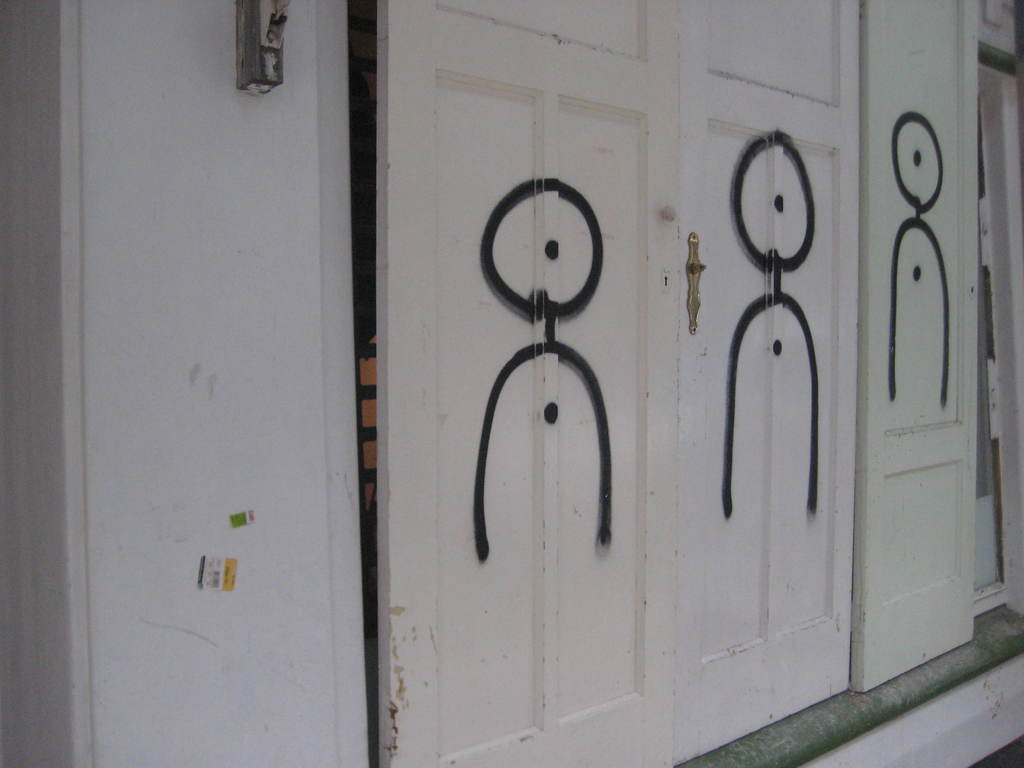door: (413, 31, 681, 750), (681, 55, 852, 698), (870, 22, 968, 659)
handle: (683, 237, 703, 324)
